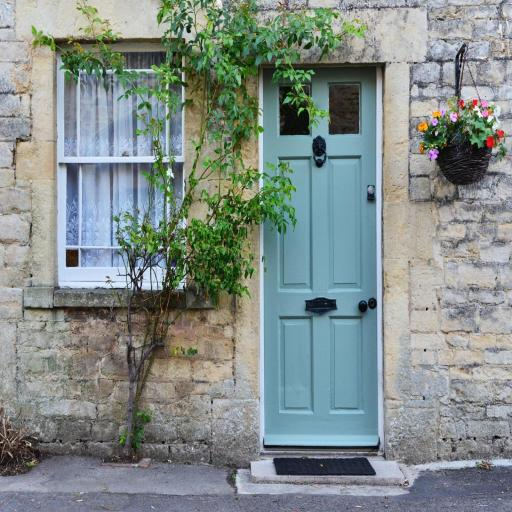door: (258, 60, 390, 453)
